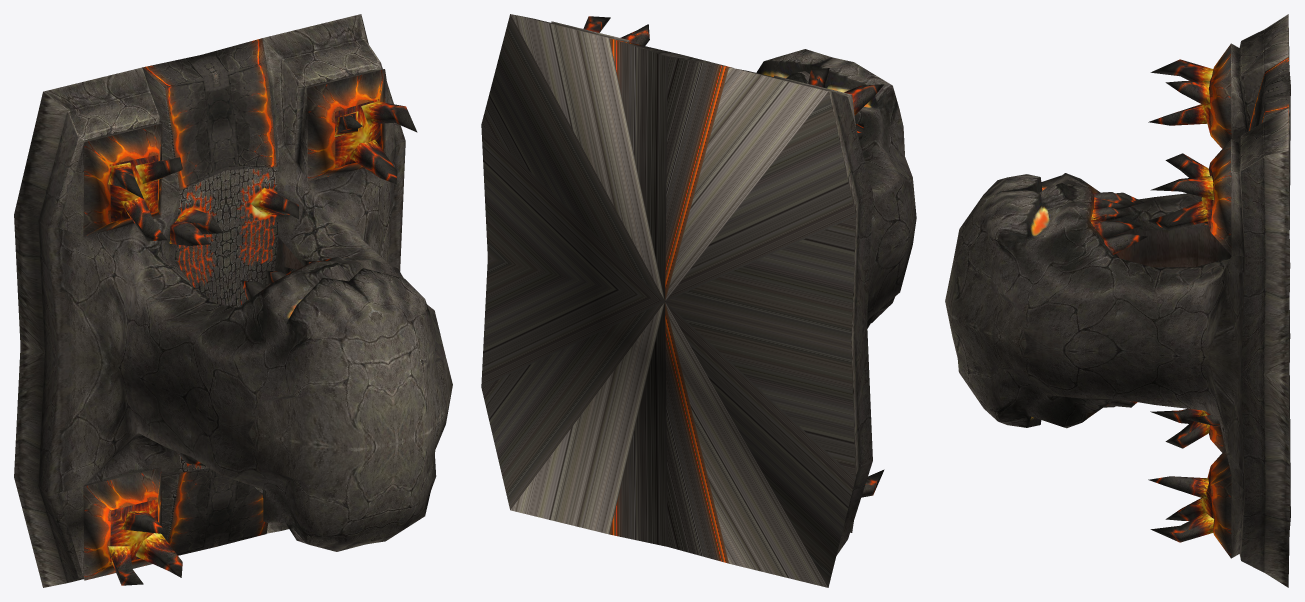
Rendered from Altar-gate-04.obj.
The picture shows the model from 3 angles, left to right: view 1: azimuth 30°, elevation 25°; view 2: azimuth 150°, elevation 25°; view 3: azimuth 270°, elevation 25°; orthographic projection. The views are drawn at different scales.
Parts seen in each view (by area): view 1: (null); view 2: (null); view 3: (null).
Boxes of the visible parts, x1=… form: (null): x1=14, y1=14, x2=452, y2=587; (null): x1=481, y1=14, x2=916, y2=587; (null): x1=945, y1=14, x2=1290, y2=587.
Size of the model in its own units: 9.97 by 12.63 by 9.06.
